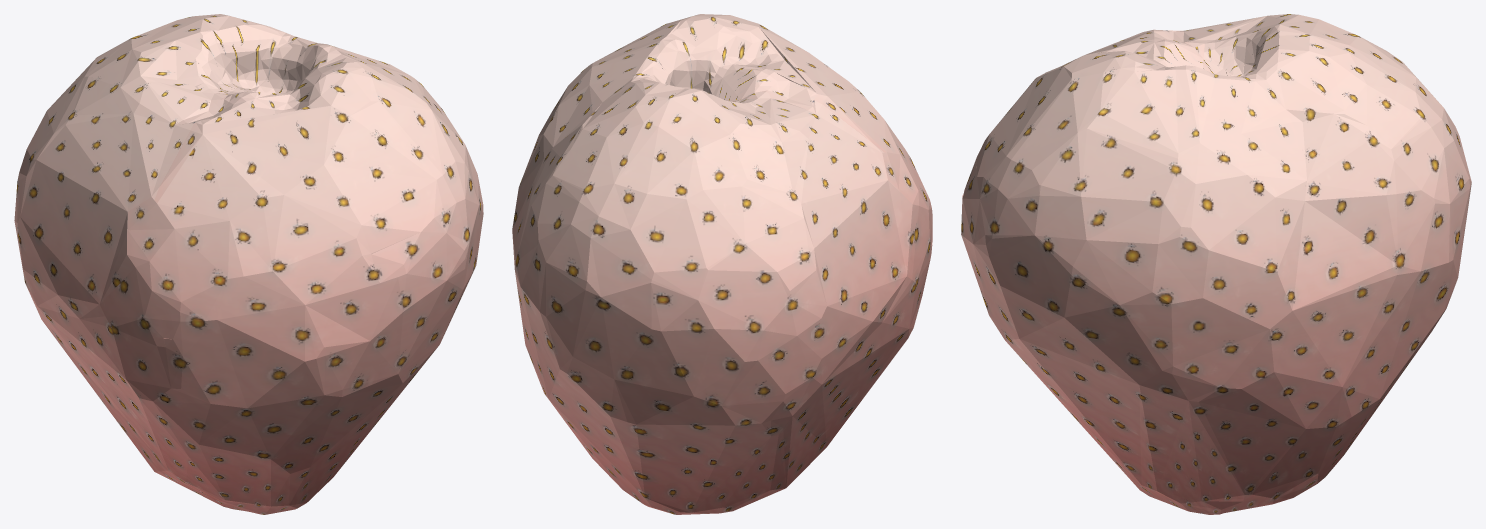
3 renders of one model, left to right at view 1: azimuth 30°, elevation 25°; view 2: azimuth 150°, elevation 25°; view 3: azimuth 270°, elevation 25°, orthographic. The views are drawn at different scales.
Visible parts, largest first — view 1: _001_Meshed; view 2: _001_Meshed; view 3: _001_Meshed.
Part boxes in pixels (x1,y1,x2,y2): _001_Meshed: (14,14,483,514); _001_Meshed: (512,14,932,514); _001_Meshed: (961,14,1471,514).
Bounding box in the file's own units: 0.0955 × 0.1113 × 0.1115.
1 material, 1 textured.
